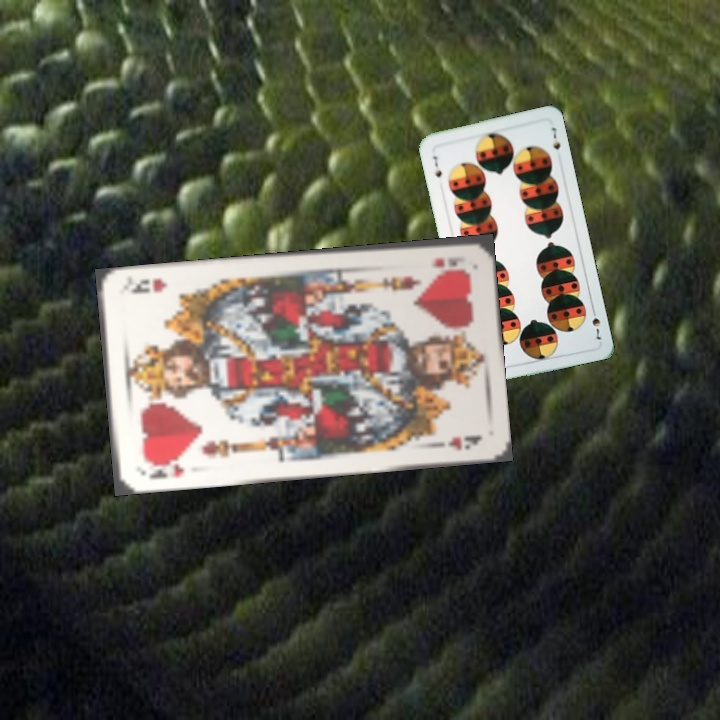HK: (137, 455, 187, 482), (428, 253, 467, 271)
S7: (587, 303, 603, 342), (428, 152, 444, 181)
